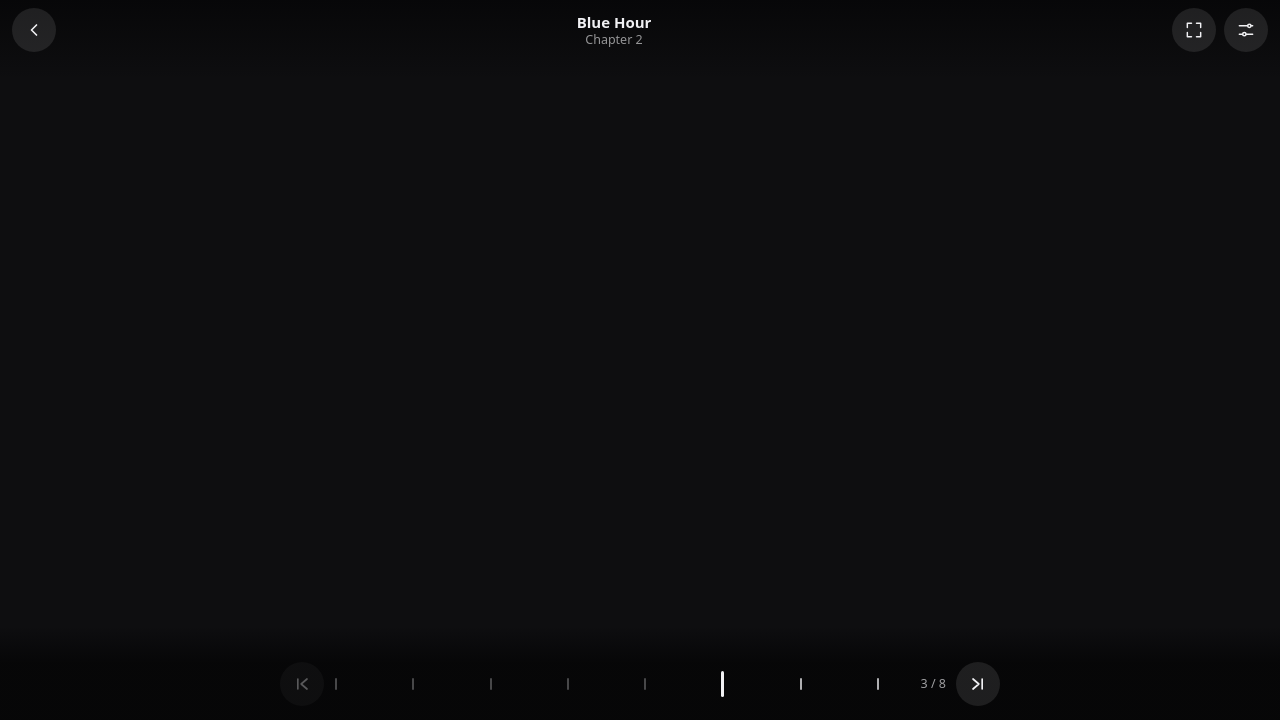
Test: keeps reading options tucked away until asked for
This screenshot has width=1280, height=720.
Click the button named "Reading options". click: (1246, 30)
box: [1224,8,1268,52]
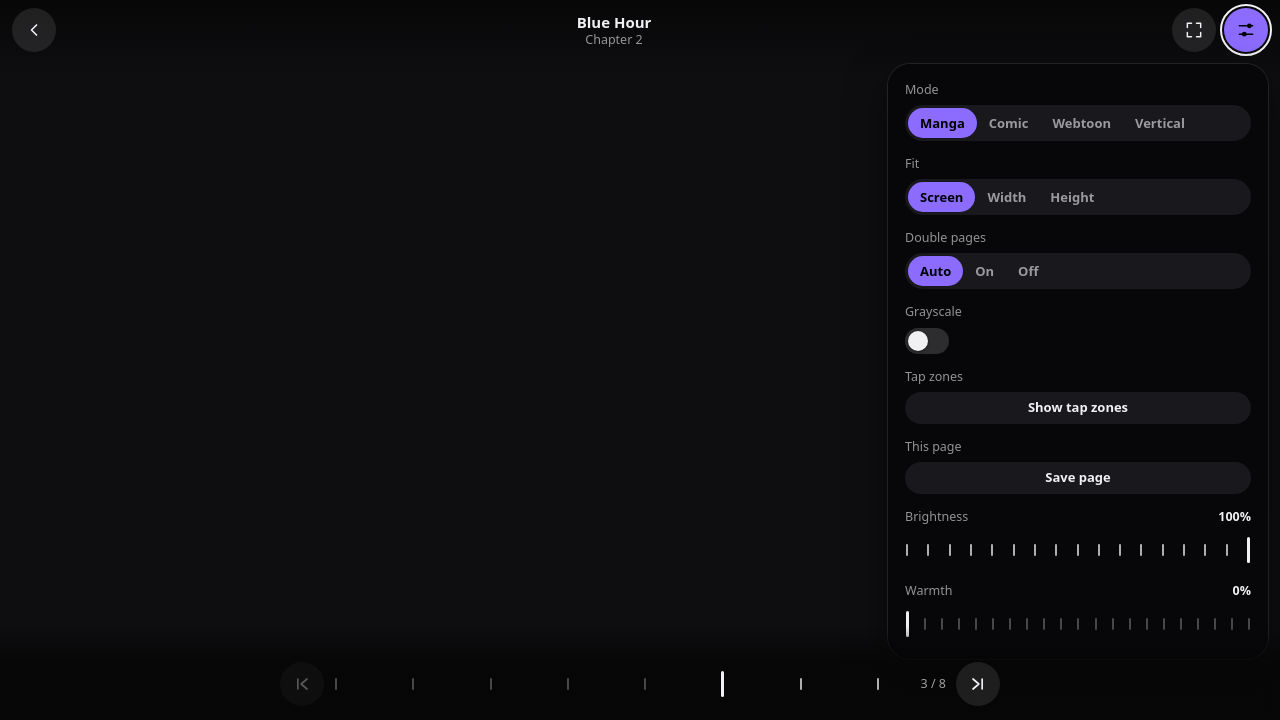
Expected: the button named "Reading options" is expanded, [1224,8,1268,52]
Expected: the element named "Reading mode" is shown, [905,105,1251,141]
Expected: the slider named "Brightness" is shown, [905,532,1251,568]
